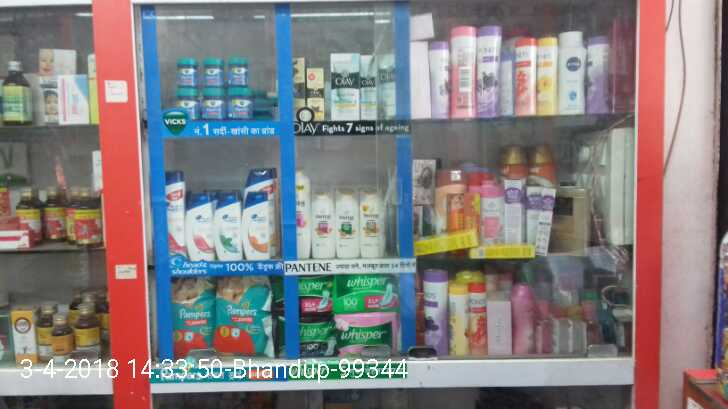vicks: (176, 56, 256, 123)
